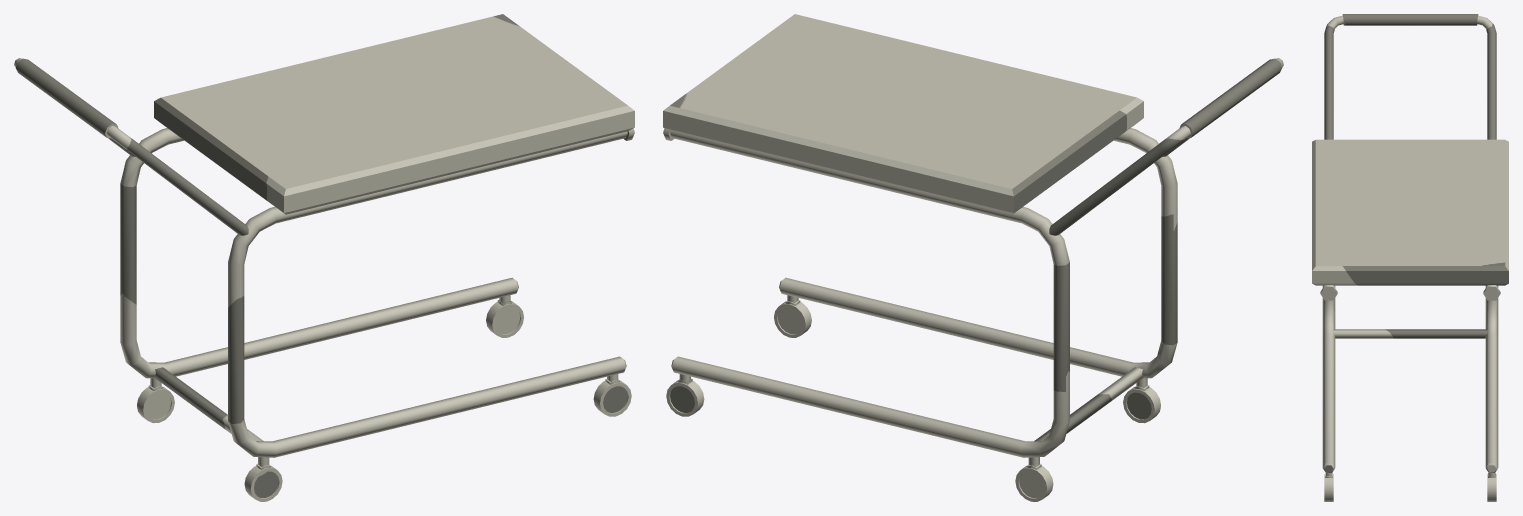
File: tray.glb
3 views of the same model, side by side, from view 1: azimuth 30°, elevation 25°; view 2: azimuth 150°, elevation 25°; view 3: azimuth 270°, elevation 25° (orthographic). The views are drawn at different scales.
Parts seen in each view (by area): view 1: Cube.002; view 2: Cube.002; view 3: Cube.002.
Part boxes in pixels (left/top/right/bottom): Cube.002: left=14, top=14, right=634, bottom=501; Cube.002: left=663, top=14, right=1283, bottom=501; Cube.002: left=1312, top=14, right=1508, bottom=501.
Bounding box in the file's own units: 0.2001 × 0.1498 × 0.0875.
Materials: 1 (1 with a texture image).
